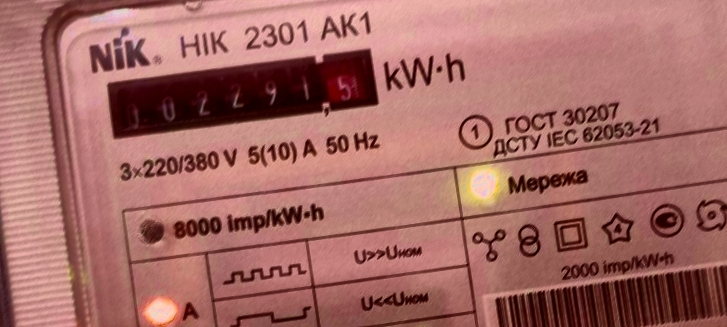0: (120, 98, 142, 129), (158, 92, 178, 123)
1: (295, 69, 314, 105)
2: (192, 86, 212, 118), (226, 79, 245, 110)
5: (333, 70, 354, 102)
9: (260, 76, 281, 108)
screen: (99, 35, 385, 153)
